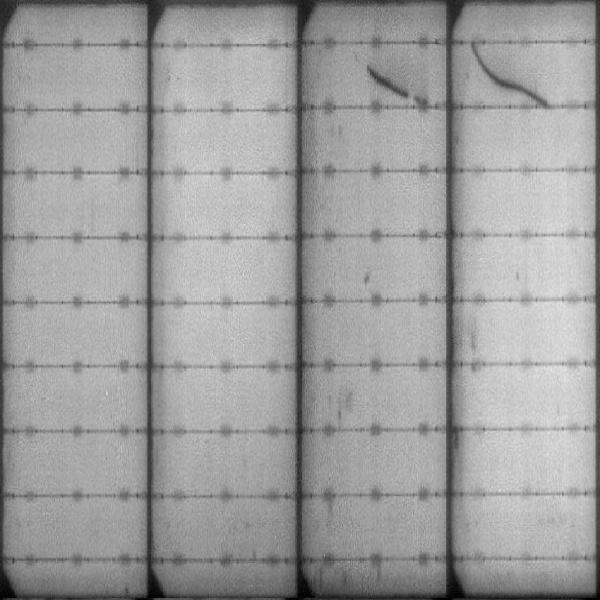scratch: (467, 46, 554, 103), (361, 63, 436, 101)
